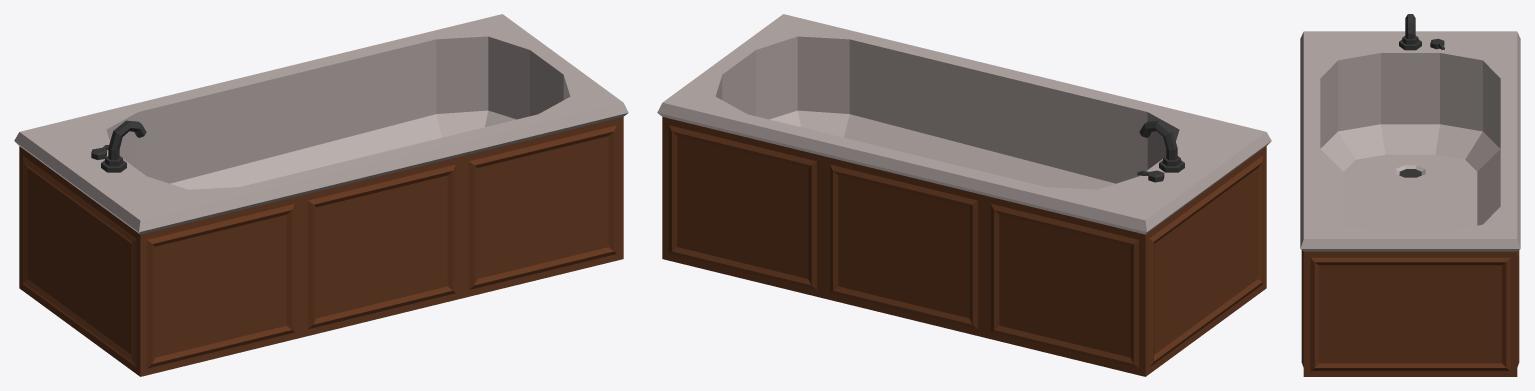
File: BathTub1.glb
3 renders of one model, left to right at view 1: azimuth 30°, elevation 25°; view 2: azimuth 150°, elevation 25°; view 3: azimuth 270°, elevation 25°, orthographic. The views are drawn at different scales.
Visible parts, largest first — view 1: BathTub1; view 2: BathTub1; view 3: BathTub1.
Part boxes in pixels (left/top/right/bottom): BathTub1: left=14, top=14, right=628, bottom=376; BathTub1: left=657, top=14, right=1271, bottom=376; BathTub1: left=1300, top=14, right=1520, bottom=376.
Size of the model in its own units: 2.03 by 0.7888 by 0.8953.
